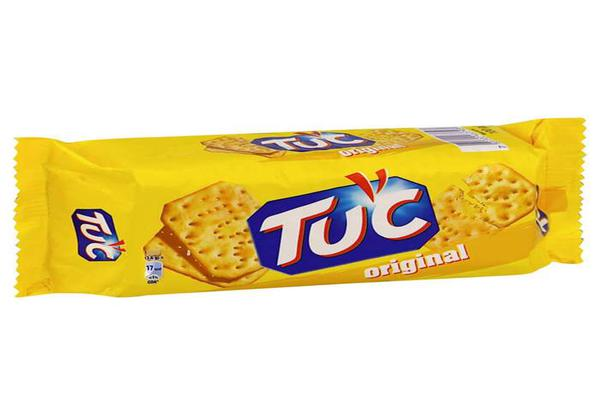crackers tuc: (126, 154, 546, 303), (109, 117, 519, 184)
